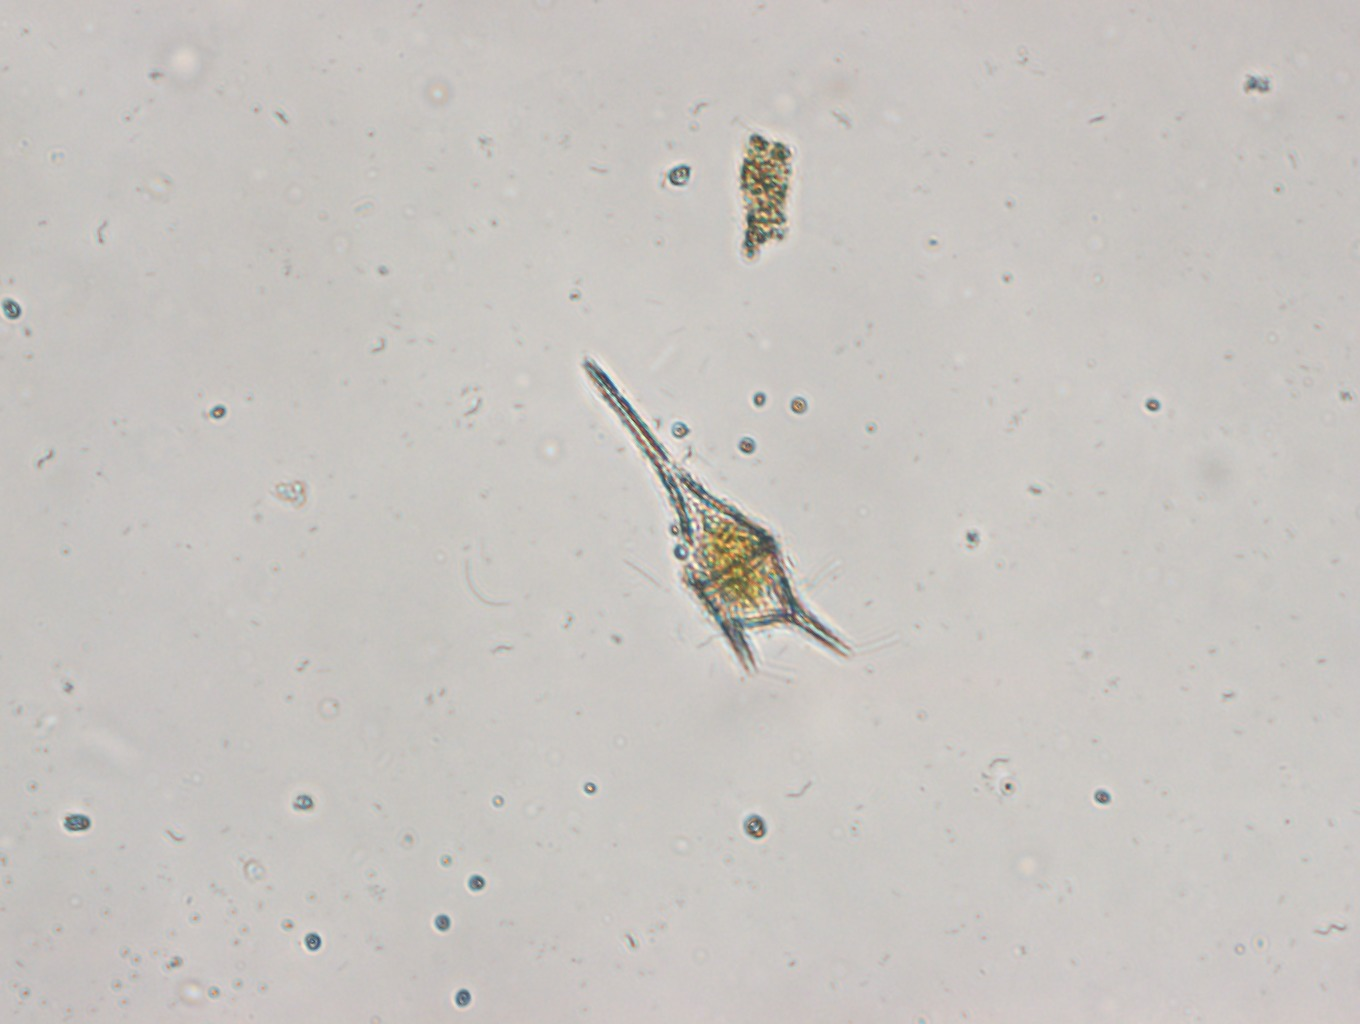ceratium furca: (579, 355, 851, 673)
